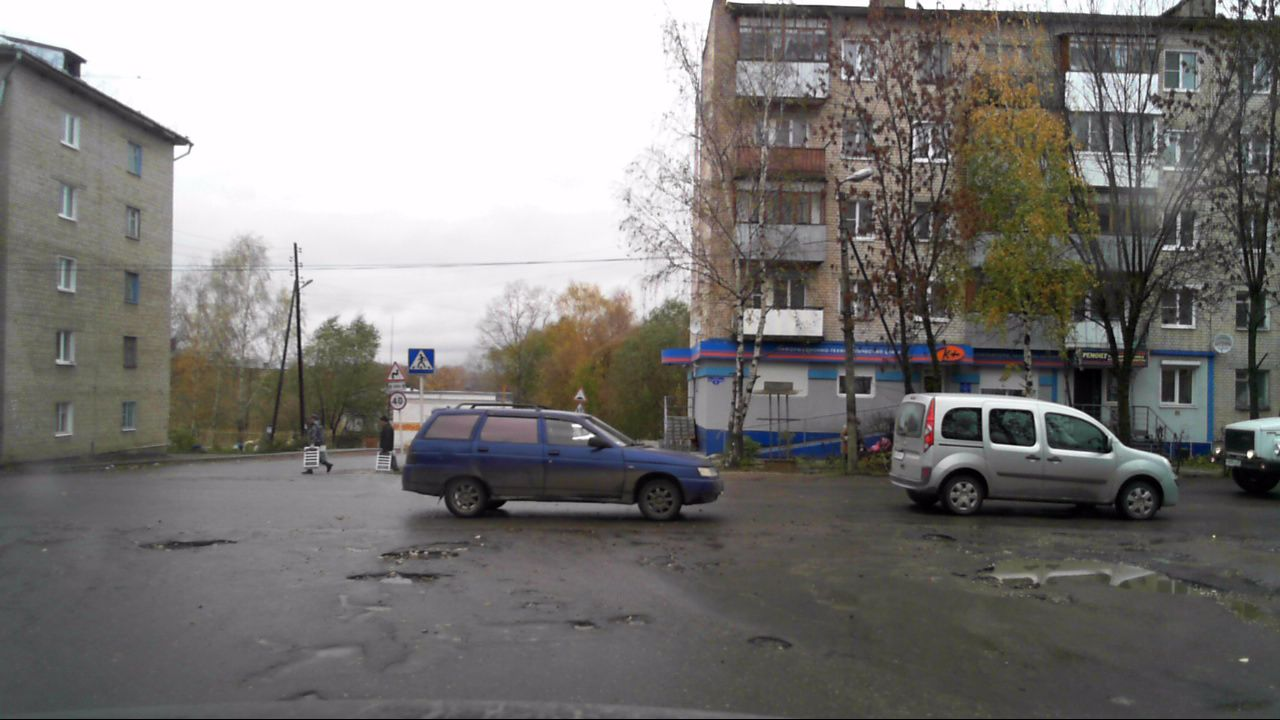speed_warning_40: (387, 388, 411, 410)
